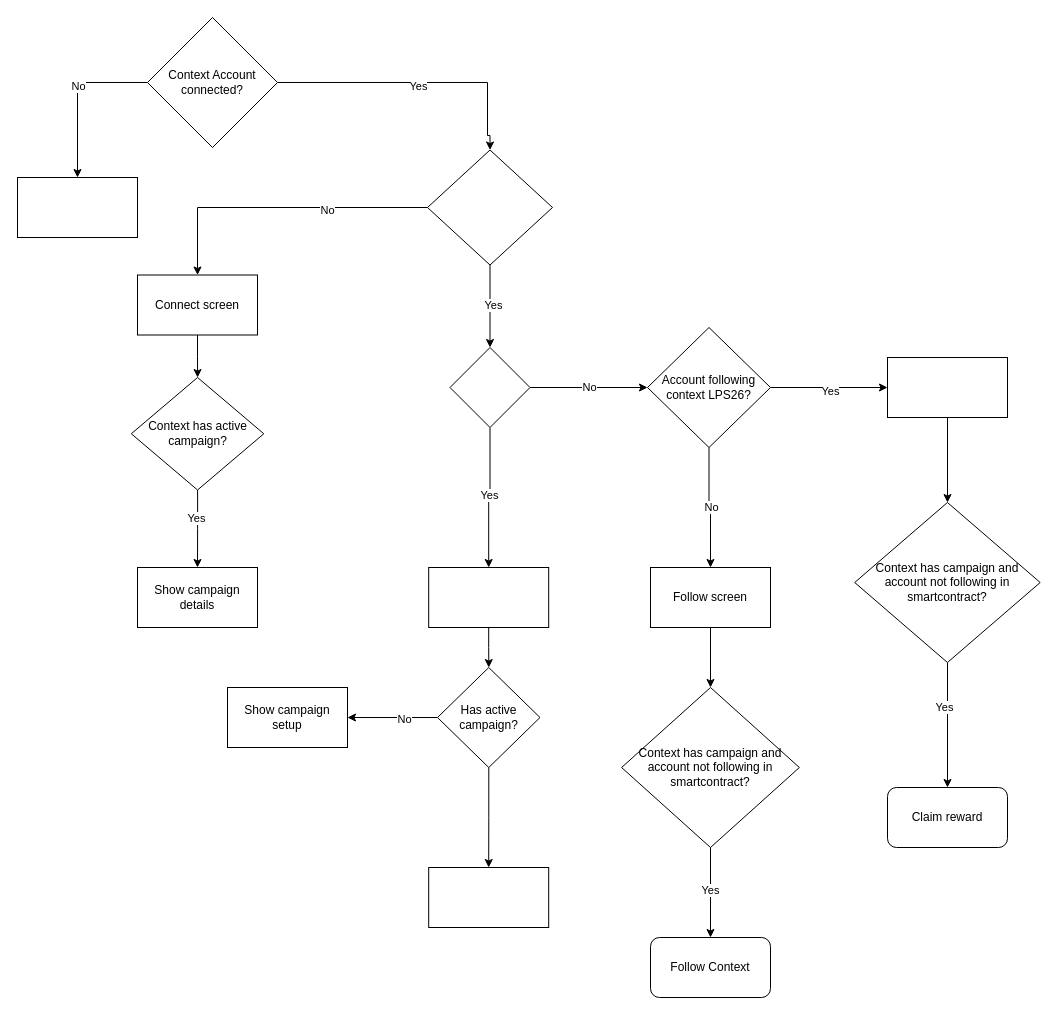
Image size: 1058x1015. Some labels were removed from this diagram. The shapes that lost their labels are listed below. From the top down, each one's centre as x and y in pixels, then its label:
point (77, 207): Loading screen
point (489, 207): Account connected?
point (489, 387): Account = Context?
point (947, 387): Thanks screen
point (488, 597): Config screen
point (488, 897): Show current campaign and cancel
